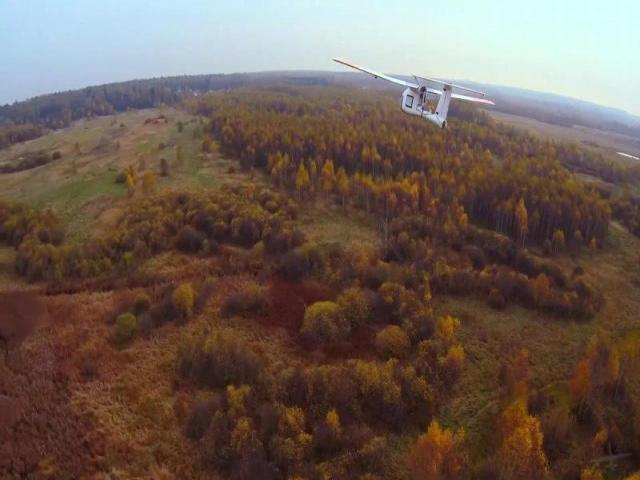hedef: (334, 52, 494, 134)
